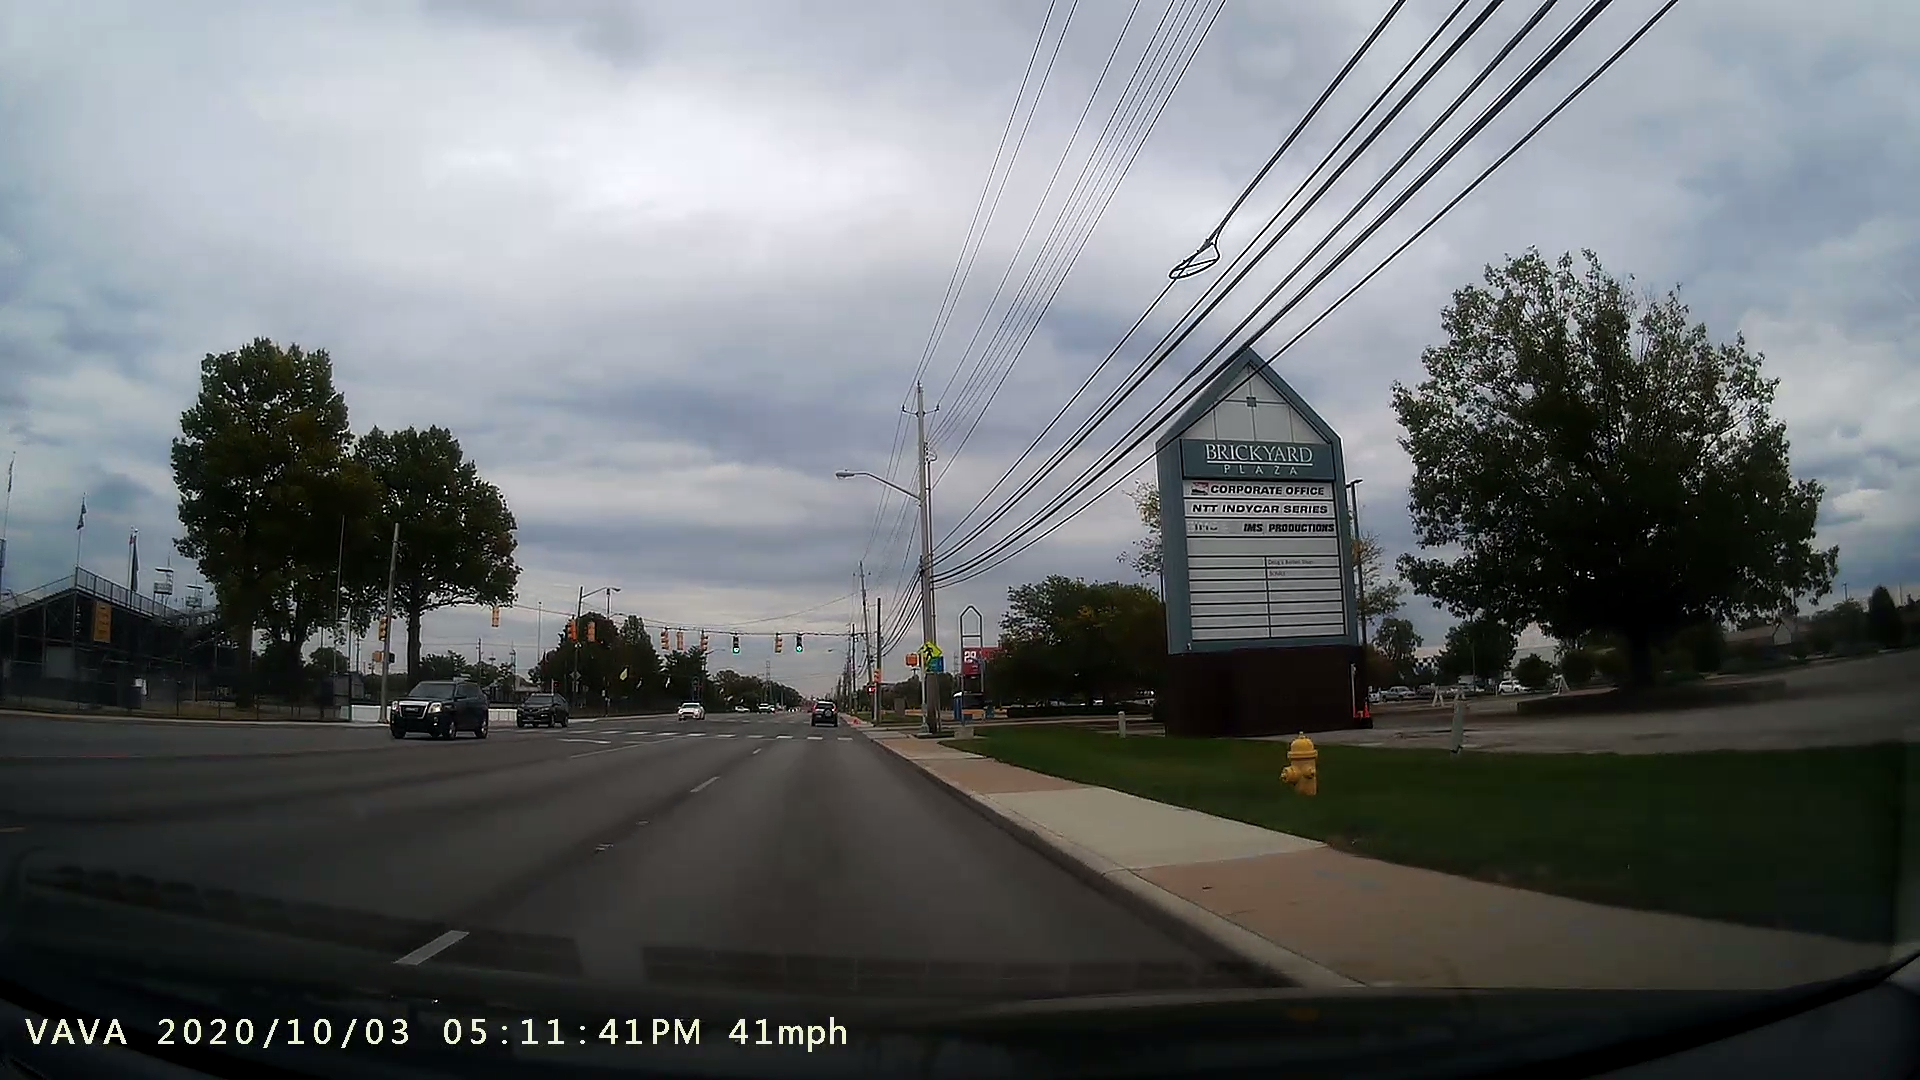fire_hydrant: (1270, 717, 1332, 811)
